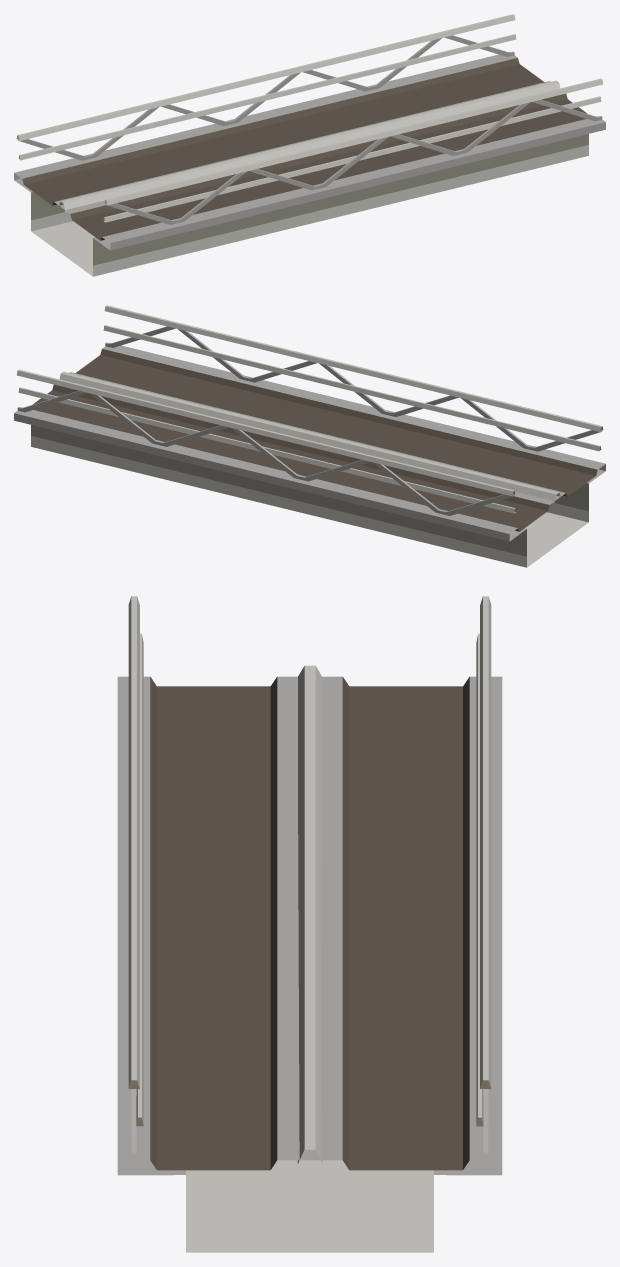
The model's file is railwaybridge_part2.fbx.
3 renders of one model, top to bottom at view 1: azimuth 30°, elevation 25°; view 2: azimuth 150°, elevation 25°; view 3: azimuth 270°, elevation 25°, orthographic. The views are drawn at different scales.
Visible parts, largest first — view 1: railwaybridge_part2; view 2: railwaybridge_part2; view 3: railwaybridge_part2.
Part boxes in pixels (x1=…): railwaybridge_part2: x1=14, y1=14, x2=605, y2=276; railwaybridge_part2: x1=14, y1=305, x2=605, y2=567; railwaybridge_part2: x1=117, y1=596, x2=502, y2=1252.
Size of the model in its own units: 2500 by 416 by 840.
